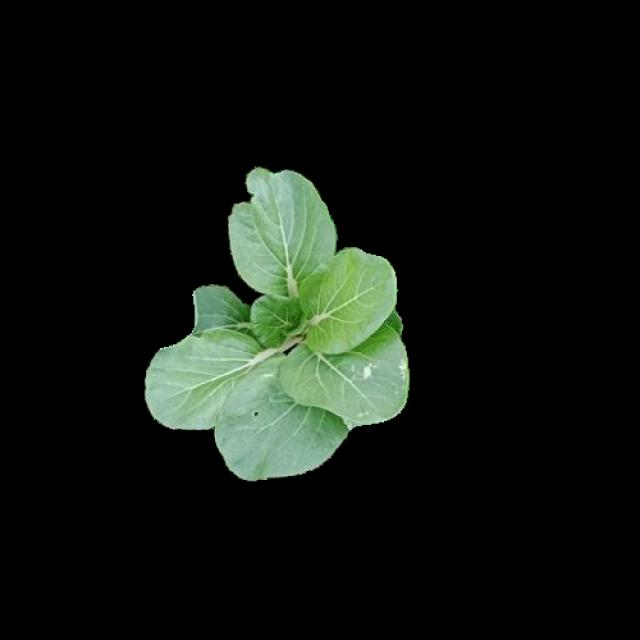not-mature: (144, 167, 406, 478)
unhealthy: (278, 321, 407, 424)
